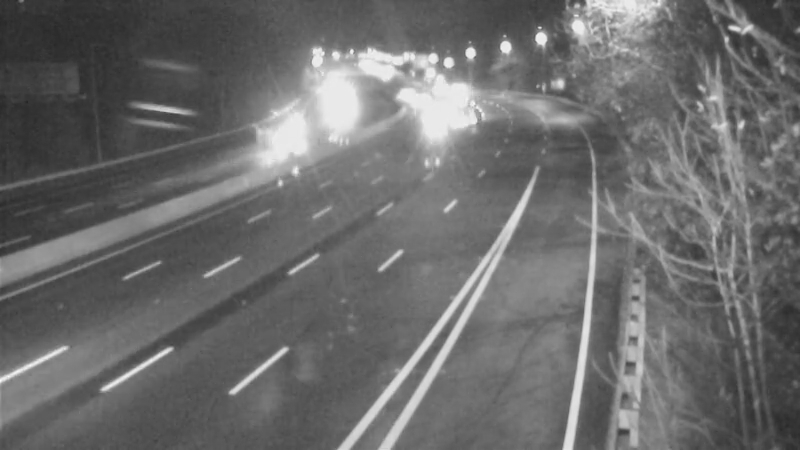vehicle: (416, 64, 466, 114), (438, 63, 488, 113), (378, 68, 428, 118), (427, 72, 477, 122), (392, 76, 442, 126), (438, 80, 488, 130), (419, 89, 469, 139), (407, 85, 457, 135), (249, 117, 299, 167)
